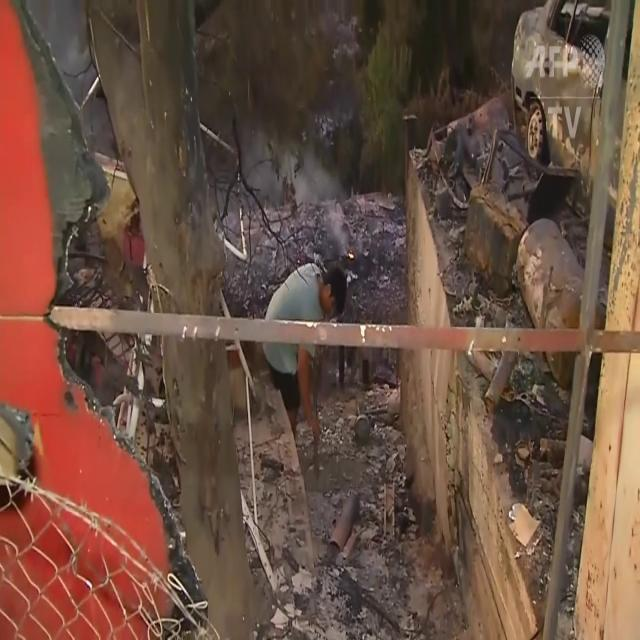Smoke: (240, 125, 350, 236)
